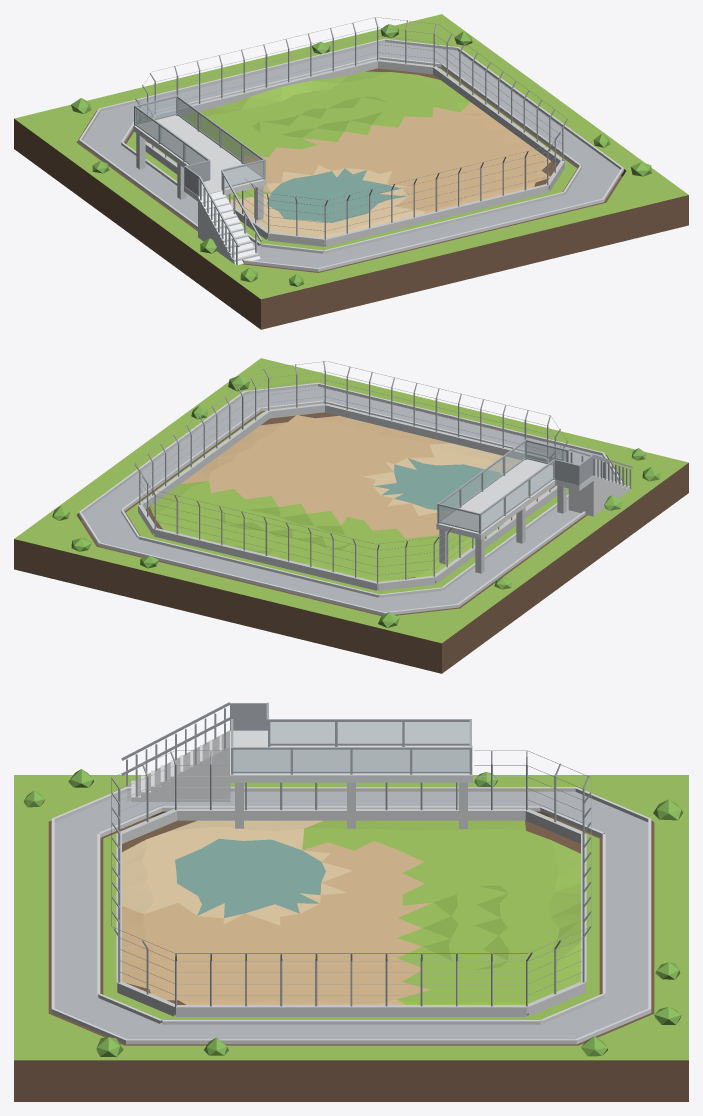
File: enclosure_clean_25x25.glb
The picture shows the model from 3 angles, top to bottom: view 1: azimuth 30°, elevation 25°; view 2: azimuth 150°, elevation 25°; view 3: azimuth 270°, elevation 25°; orthographic projection. The views are drawn at different scales.
Visible parts, largest first — view 1: Terrain_Mesh, Diorama_Base_Sides, Lawn_Outer, Road, Fence_Foundation, Curb_Outer, Deck_Slab, Fence_Posts, Curb_Inner, Fence_Rails, Deck_Rail_Glass, Verge_Inner (+5 smaller); view 2: Terrain_Mesh, Diorama_Base_Sides, Lawn_Outer, Road, Fence_Foundation, Curb_Outer, Deck_Slab, Deck_Rail_Glass, Curb_Inner, Fence_Posts, Fence_Rails, Verge_Inner (+4 smaller); view 3: Terrain_Mesh, Lawn_Outer, Road, Diorama_Base_Sides, Fence_Foundation, Deck_Rail_Glass, Deck_Slab, Curb_Outer, Verge_Inner, Curb_Inner, Fence_Posts, Fence_Rails (+5 smaller).
Part boxes in pixels (left/top/right/bottom): Terrain_Mesh: left=149, top=71, right=550, bottom=237; Diorama_Base_Sides: left=14, top=67, right=688, bottom=329; Lawn_Outer: left=14, top=14, right=688, bottom=299; Road: left=82, top=42, right=620, bottom=267; Fence_Foundation: left=145, top=59, right=564, bottom=246; Curb_Outer: left=79, top=38, right=623, bottom=271; Deck_Slab: left=133, top=115, right=266, bottom=194; Fence_Posts: left=135, top=17, right=567, bottom=239; Curb_Inner: left=121, top=56, right=581, bottom=253; Fence_Rails: left=135, top=17, right=567, bottom=231; Deck_Rail_Glass: left=136, top=98, right=263, bottom=186; Verge_Inner: left=126, top=68, right=577, bottom=250; Terrain_Mesh: left=150, top=415, right=549, bottom=581; Diorama_Base_Sides: left=14, top=411, right=688, bottom=673; Lawn_Outer: left=14, top=358, right=688, bottom=643; Road: left=82, top=386, right=618, bottom=611; Fence_Foundation: left=138, top=403, right=557, bottom=590; Curb_Outer: left=79, top=382, right=622, bottom=615; Deck_Slab: left=436, top=459, right=555, bottom=539; Deck_Rail_Glass: left=439, top=442, right=566, bottom=530; Curb_Inner: left=121, top=400, right=568, bottom=597; Fence_Posts: left=134, top=361, right=568, bottom=583; Fence_Rails: left=135, top=361, right=567, bottom=575; Verge_Inner: left=125, top=412, right=568, bottom=594; Terrain_Mesh: left=122, top=820, right=580, bottom=1004; Lawn_Outer: left=14, top=775, right=688, bottom=1060; Road: left=54, top=791, right=648, bottom=1039; Diorama_Base_Sides: left=14, top=811, right=688, bottom=1101; Fence_Foundation: left=116, top=808, right=586, bottom=1016; Deck_Rail_Glass: left=233, top=722, right=469, bottom=771; Deck_Slab: left=230, top=745, right=472, bottom=782; Curb_Outer: left=51, top=787, right=651, bottom=1044; Verge_Inner: left=103, top=813, right=599, bottom=1019; Curb_Inner: left=97, top=806, right=605, bottom=1024; Fence_Posts: left=111, top=751, right=591, bottom=1006; Fence_Rails: left=111, top=750, right=591, bottom=995.
Size of the model in its own units: 25 by 5.13 by 25.
